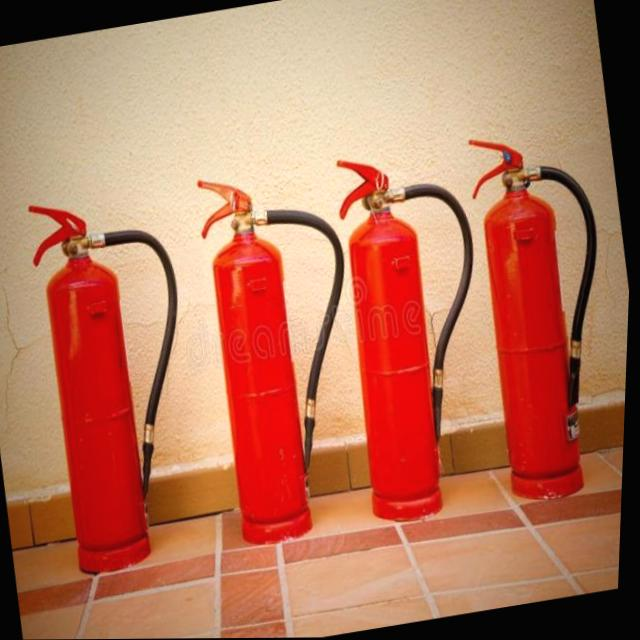FireExtinguisher: (13, 177, 229, 581), (180, 151, 394, 554), (317, 135, 520, 532), (449, 115, 637, 514)
